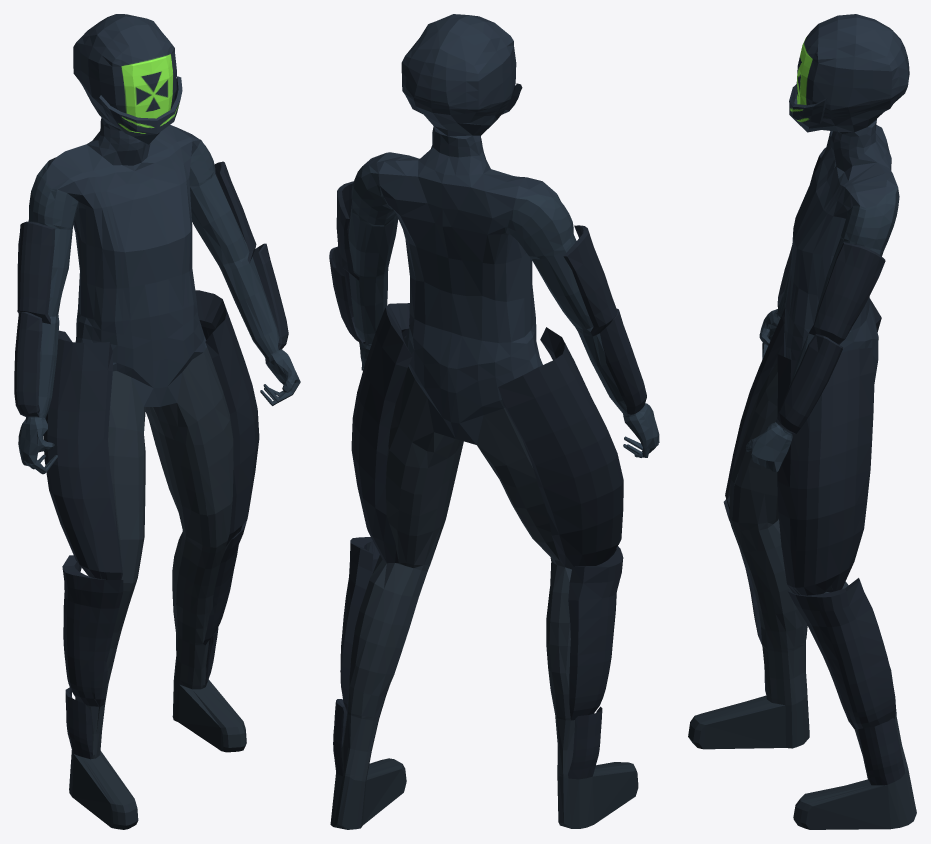
The model's file is Bastion_Stun_Recover_000009.obj.
3 renders of one model, left to right at view 1: azimuth 30°, elevation 25°; view 2: azimuth 150°, elevation 25°; view 3: azimuth 270°, elevation 25°, orthographic. The views are drawn at different scales.
Visible parts, largest first — view 1: Cube.002; view 2: Cube.002; view 3: Cube.002.
Part boxes in pixels (x1=…): Cube.002: x1=14, y1=14, x2=300, y2=829; Cube.002: x1=329, y1=14, x2=659, y2=829; Cube.002: x1=688, y1=14, x2=916, y2=829.
Size of the model in its own units: 1.5 by 3.84 by 1.04.
